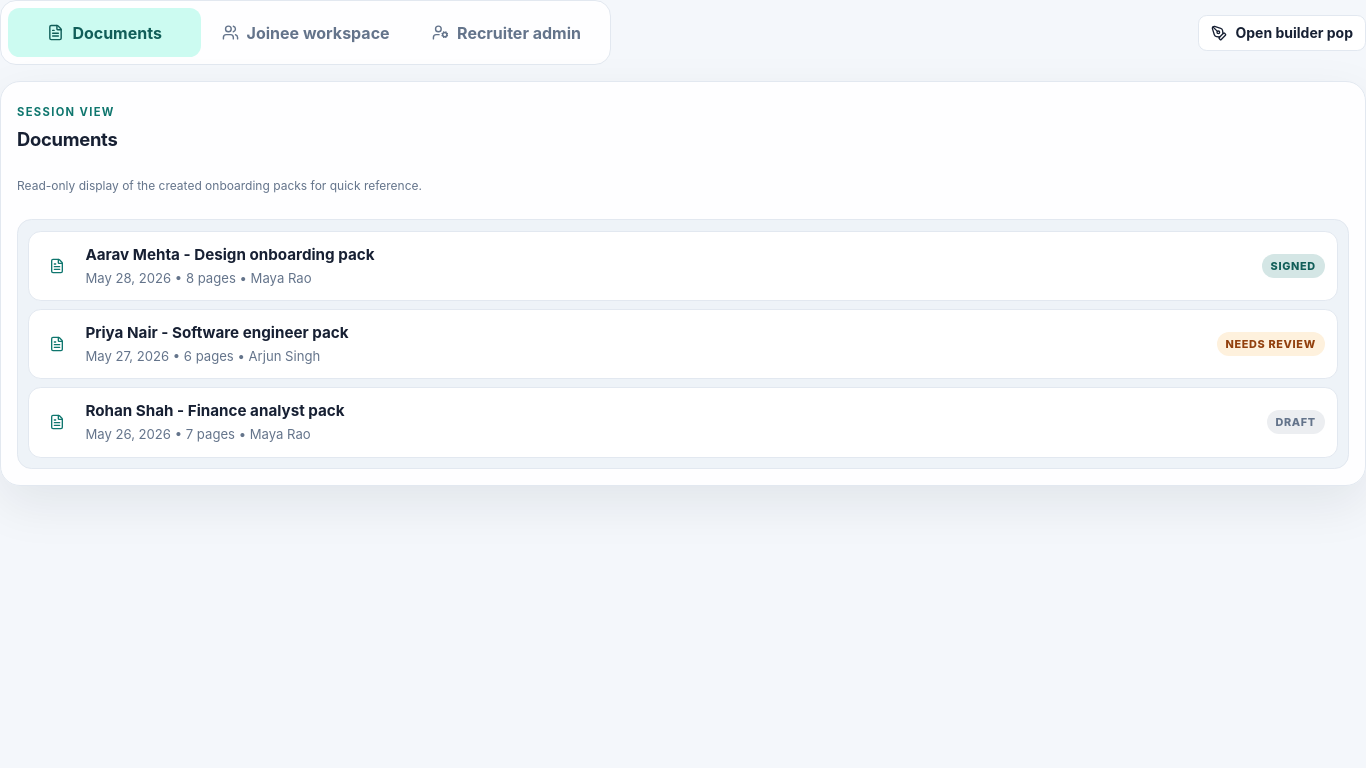
Scenario: DashboardTabs › shows created documents first and opens the builder as a modal pop
Expected: the heading "Documents" is shown, left=17, top=128, right=117, bottom=150
Click the button "Open builder pop": (1282, 33) left=1198, top=15, right=1365, bottom=51
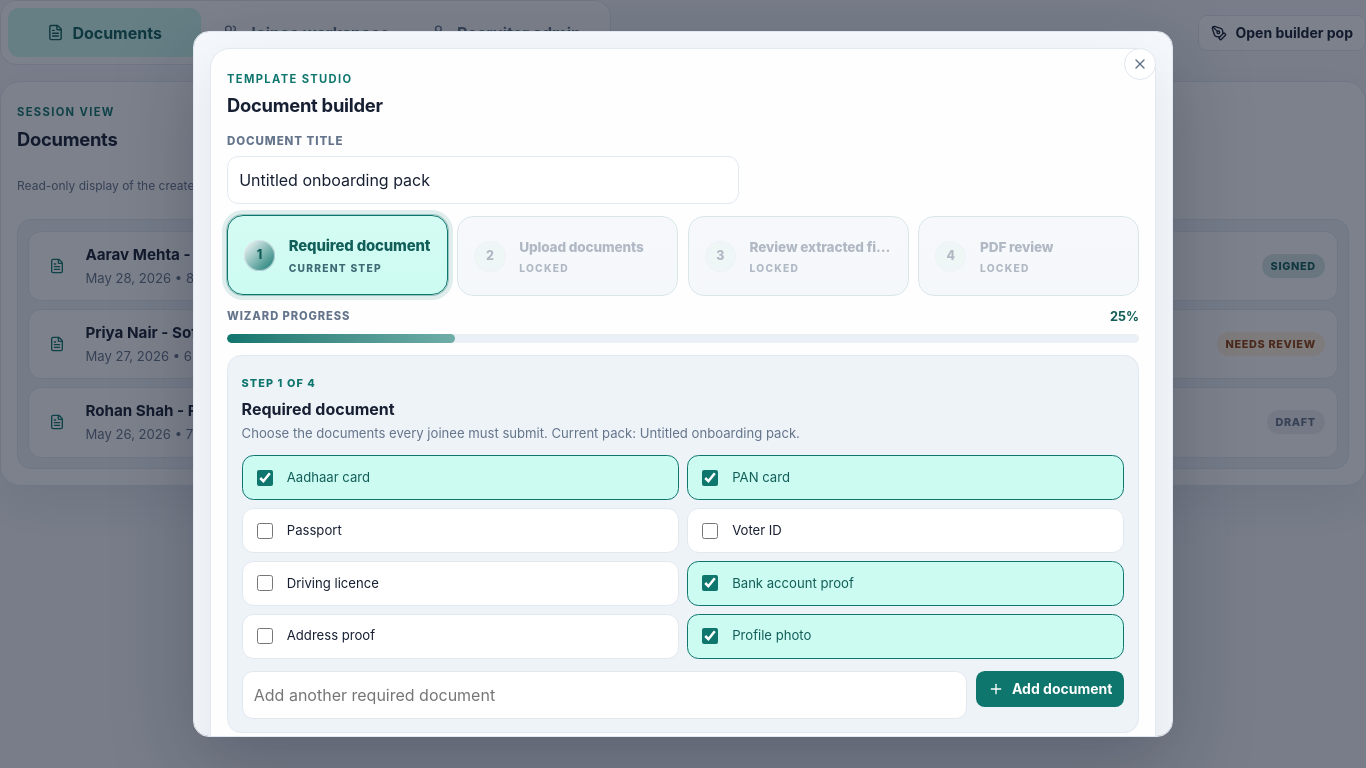
Expected: the dialog named "Document builder pop" is shown
Click the button named "Close builder pop": (1140, 64) left=1124, top=48, right=1156, bottom=80
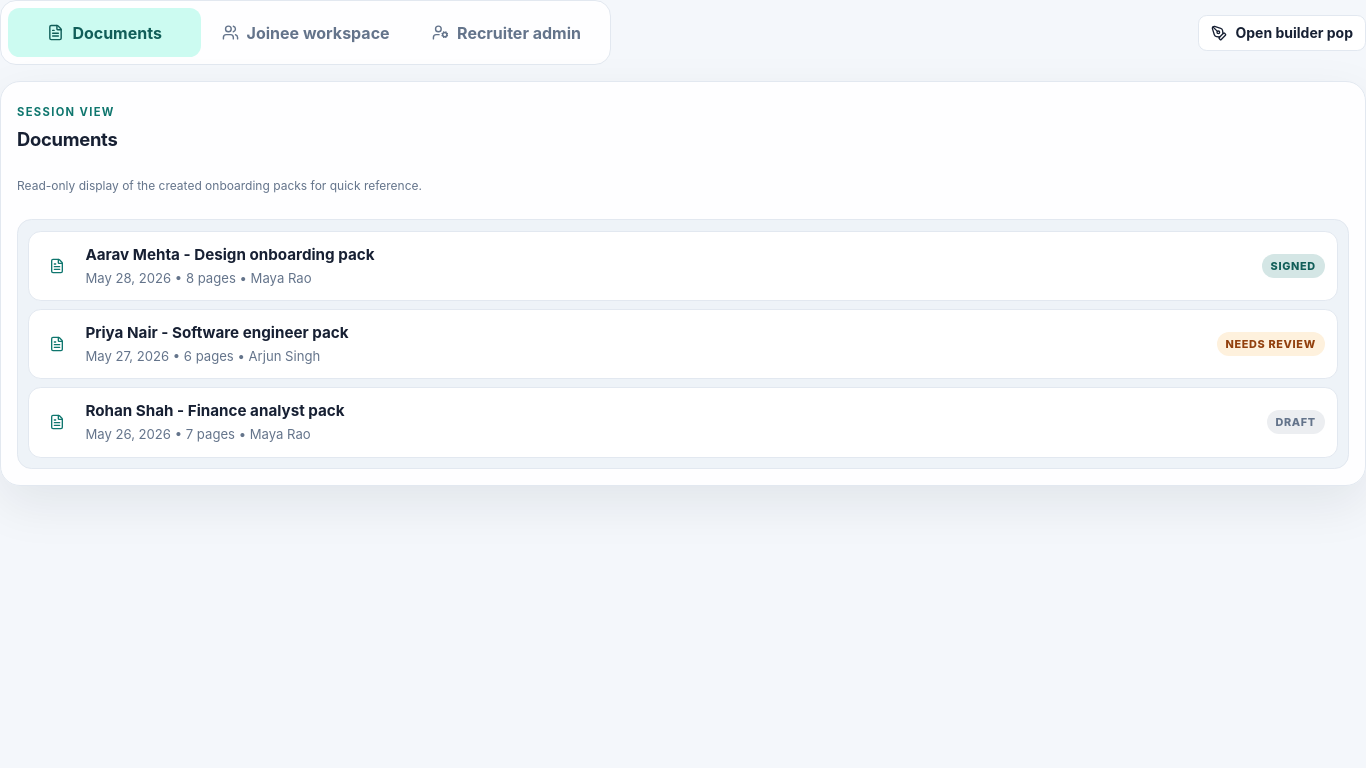
Expected: the dialog is gone
